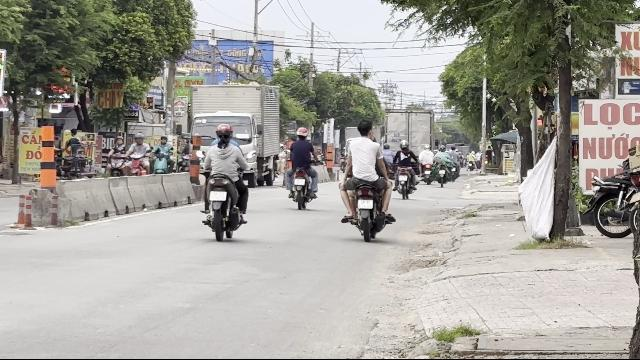helmet: (214, 124, 232, 142)
licenseplate: (210, 191, 227, 201), (357, 199, 373, 209)
motorcyclist: (337, 118, 395, 240), (198, 122, 250, 240)
nohelmet: (356, 120, 374, 138)
